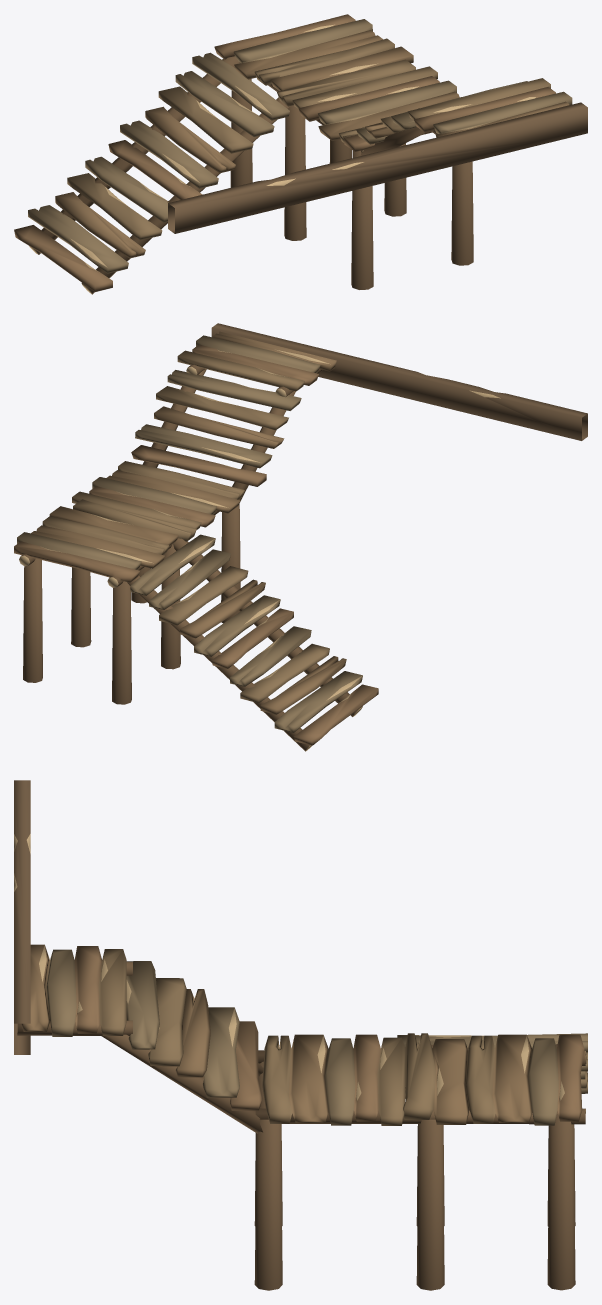
Rendered from rpgpp_ag_stairs_interior_01b_3m.fbx.
3 renders of one model, top to bottom at view 1: azimuth 30°, elevation 25°; view 2: azimuth 150°, elevation 25°; view 3: azimuth 270°, elevation 25°, orthographic. The views are drawn at different scales.
Visible parts, largest first — view 1: rpgpp_ag_stairs_interior_01b_3m; view 2: rpgpp_ag_stairs_interior_01b_3m; view 3: rpgpp_ag_stairs_interior_01b_3m.
Part boxes in pixels (box(x1,y1,x2,y2)): rpgpp_ag_stairs_interior_01b_3m: box(14, 14, 587, 294); rpgpp_ag_stairs_interior_01b_3m: box(14, 323, 587, 751); rpgpp_ag_stairs_interior_01b_3m: box(14, 780, 587, 1290).
Size of the model in its own units: 5.92 by 3.18 by 5.87.
